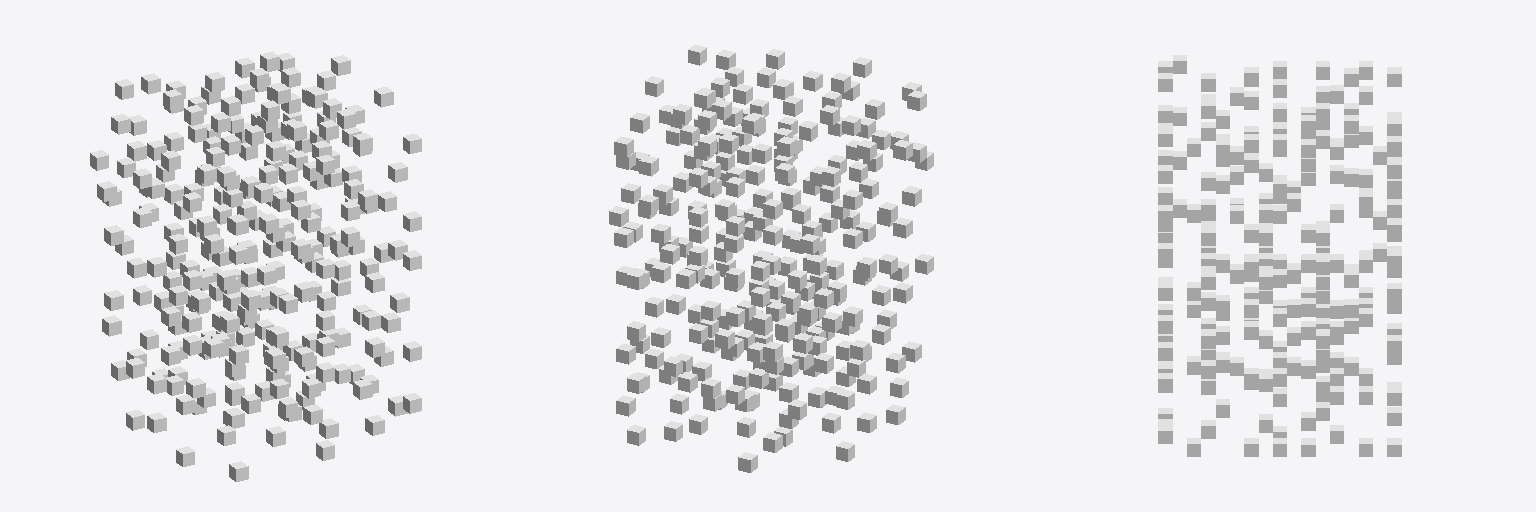
File: fire-08.obj
3 renders of one model, left to right at view 1: azimuth 30°, elevation 25°; view 2: azimuth 150°, elevation 25°; view 3: azimuth 270°, elevation 25°, orthographic.
Size of the model in its own units: 17 by 25 by 17.